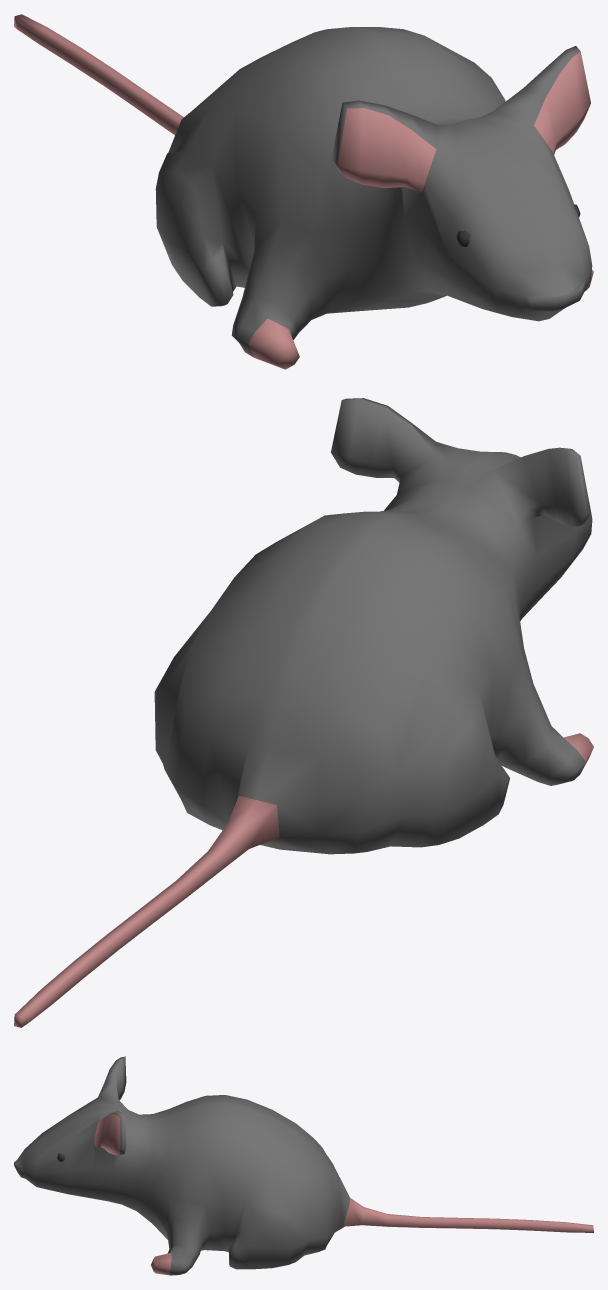
The model's file is rat.fbx.
3 views of the same model, one above another, from view 1: azimuth 30°, elevation 25°; view 2: azimuth 150°, elevation 25°; view 3: azimuth 270°, elevation 25° (orthographic). The views are drawn at different scales.
Visible parts, largest first — view 1: Cube; view 2: Cube; view 3: Cube.
Part boxes in pixels (x1,y1,x2,y2): Cube: (14, 14, 593, 369); Cube: (14, 398, 593, 1027); Cube: (14, 1056, 593, 1275).
Size of the model in its own units: 159 by 127 by 440.
